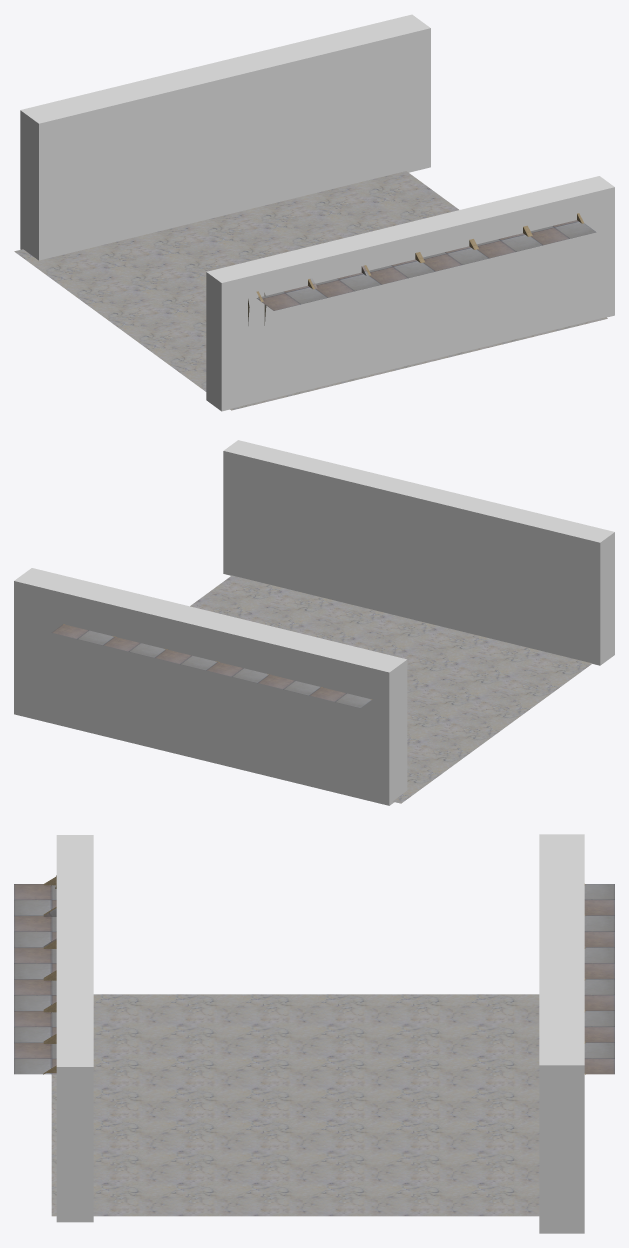
File: Stage.gltf
3 views of the same model, one above another, from view 1: azimuth 30°, elevation 25°; view 2: azimuth 150°, elevation 25°; view 3: azimuth 270°, elevation 25° (orthographic). The views are drawn at different scales.
Visible parts, largest first — view 1: COL, ground-tile.050, castle-wall-w-window-small.001; view 2: COL, ground-tile.050, castle-wall.001; view 3: ground-tile.050, COL, castle-wall-w-window-small.001, castle-wall.001.
Boxes of the visible parts, x1,y1,x2,y2 form: COL: [20, 14, 614, 411]; ground-tile.050: [14, 171, 607, 410]; castle-wall-w-window-small.001: [248, 213, 596, 325]; COL: [14, 440, 614, 805]; ground-tile.050: [190, 575, 592, 803]; castle-wall.001: [51, 624, 372, 708]; ground-tile.050: [51, 994, 539, 1216]; COL: [56, 834, 584, 1233]; castle-wall-w-window-small.001: [14, 875, 56, 1074]; castle-wall.001: [584, 884, 614, 1074].
Size of the model in its own units: 15.2 by 4.95 by 16.
